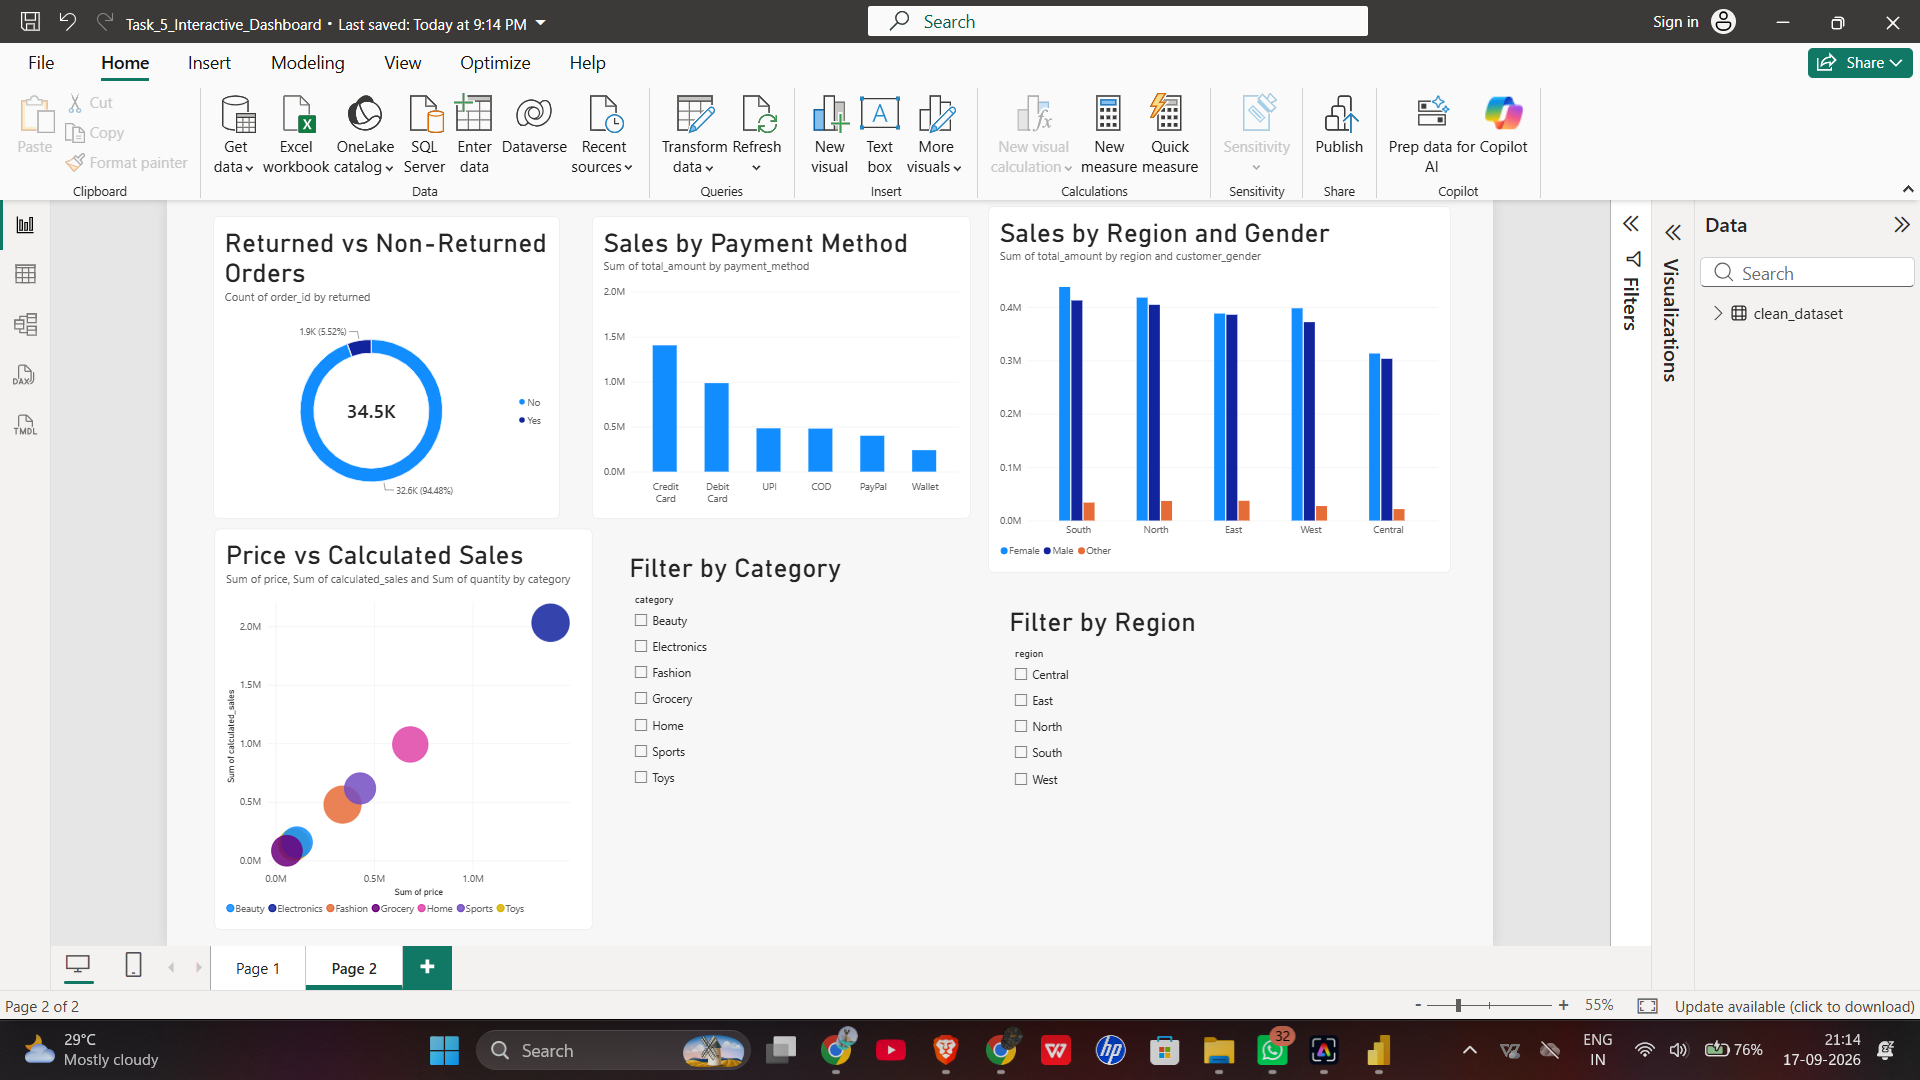

The page's visual inventory and layout, read from the dashboard file:
{"tool":"powerbi","page":{"name":"Page 2","canvas":[1920,1080],"ordinal":1},"visuals":[{"type":"donutChart","title":"Returned vs Non-Returned Orders","fields":{"Category":["clean_dataset.returned"],"Y":["CountNonNull(clean_dataset.order_id)"]},"box":[67,23.5,501.3,437.9],"z":0},{"type":"clusteredColumnChart","title":"Sales by Payment Method","fields":{"Category":["clean_dataset.payment_method"],"Y":["Sum(clean_dataset.total_amount)"]},"box":[615.3,23.5,548.3,437.9],"z":1000},{"type":"clusteredColumnChart","title":"Sales by Region and Gender","fields":{"Category":["clean_dataset.region"],"Series":["clean_dataset.customer_gender"],"Y":["Sum(clean_dataset.total_amount)"]},"box":[1189.7,8.2,669.6,530.2],"z":1001},{"type":"scatterChart","title":"Price vs Calculated Sales","fields":{"Series":["clean_dataset.category"],"Size":["Sum(clean_dataset.quantity)"],"X":["Sum(clean_dataset.price)"],"Y":["Sum(clean_dataset.calculated_sales)"]},"box":[67.9,475.5,547.5,580.4],"z":1002},{"type":"slicer","title":"Filter by Category","fields":{"Values":["clean_dataset.category"]},"box":[669,510.5,442.5,545.5],"z":1003},{"type":"slicer","title":"Filter by Region","fields":{"Values":["clean_dataset.region"]},"box":[1220.6,588.7,638.1,432.2],"z":1004}]}

Visuals, with their boxes on the page's 1920x1080 design canvas (x1, y1, x2, y2). These are canvas units, not pixel positions in the 1920x1080 screenshot, which may show the page scaled, cropped or inside an application window:
"Returned vs Non-Returned Orders" donutChart: 67:24:568:461
"Sales by Payment Method" clusteredColumnChart: 615:24:1164:461
"Sales by Region and Gender" clusteredColumnChart: 1190:8:1859:538
"Price vs Calculated Sales" scatterChart: 68:476:615:1056
"Filter by Category" slicer: 669:510:1112:1056
"Filter by Region" slicer: 1221:589:1859:1021
